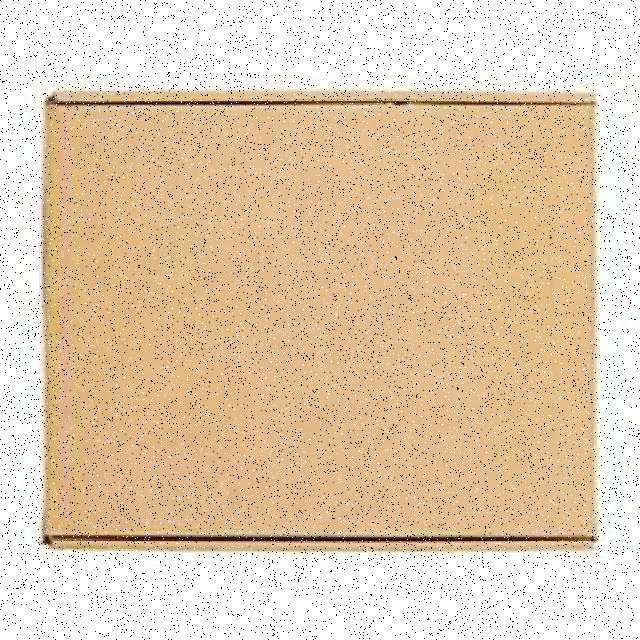normal: (31, 80, 603, 557)
